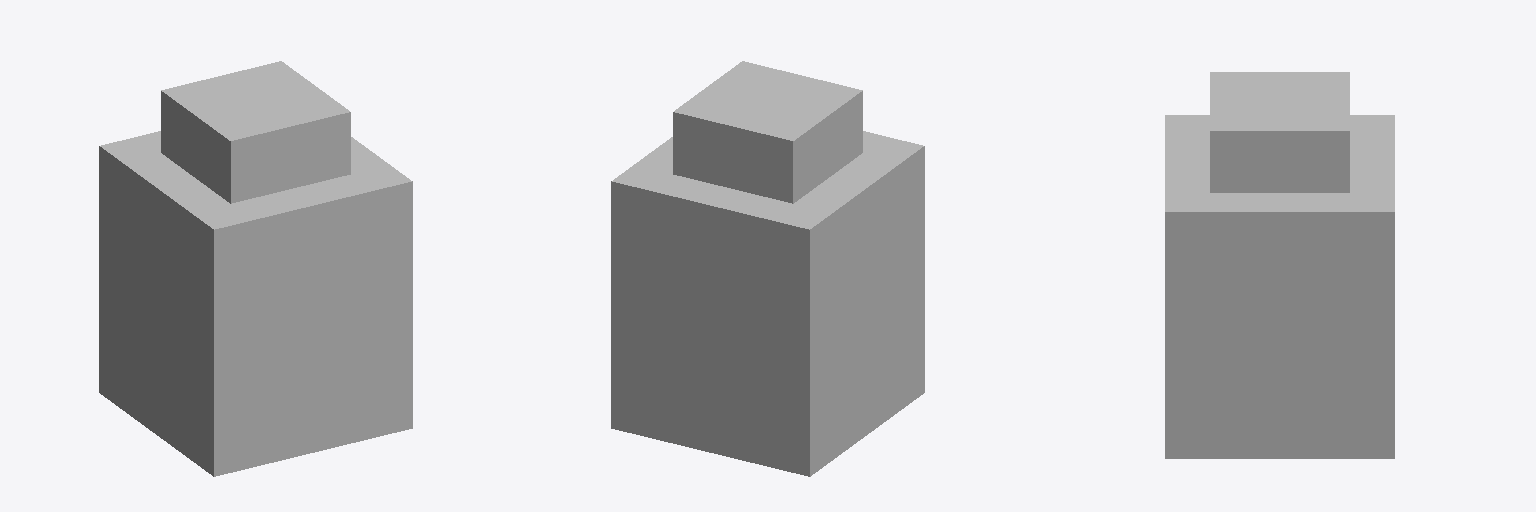
File: item1.obj
The picture shows the model from 3 angles: view 1: azimuth 30°, elevation 25°; view 2: azimuth 150°, elevation 25°; view 3: azimuth 270°, elevation 25°; orthographic projection.
Visible parts, largest first — view 1: Cube; view 2: Cube; view 3: Cube.
Boxes of the visible parts, x1=… form: Cube: x1=99, y1=61, x2=412, y2=476; Cube: x1=611, y1=61, x2=924, y2=476; Cube: x1=1165, y1=72, x2=1394, y2=458.
Size of the model in its own units: 2 by 2.98 by 2.